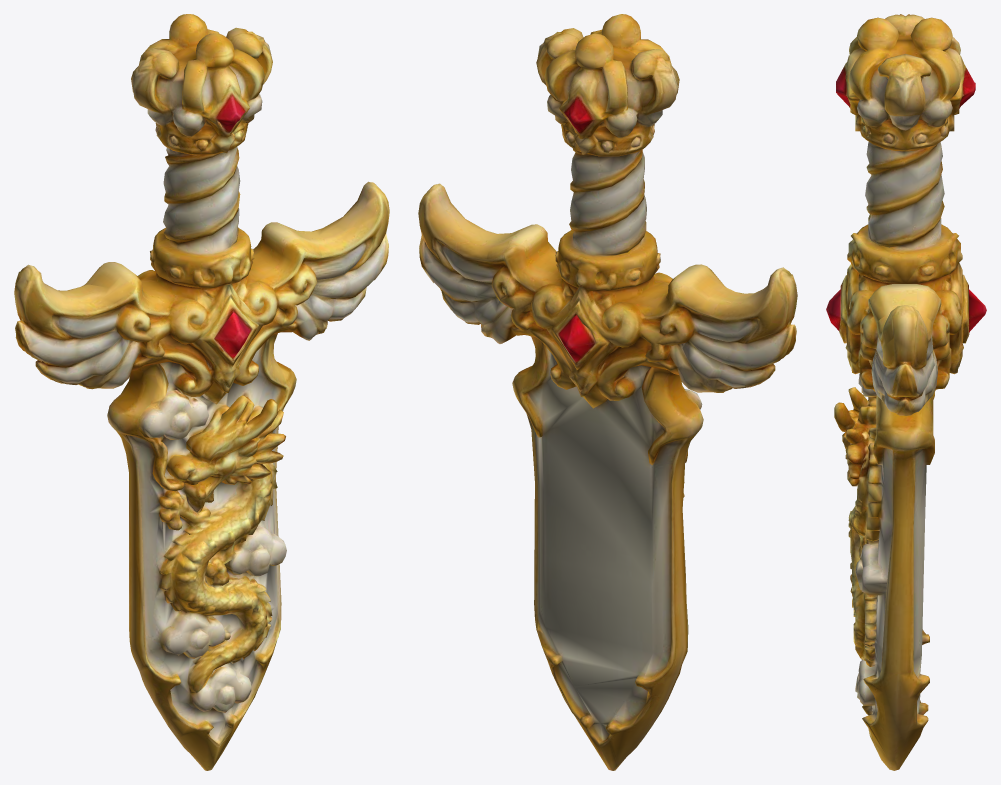
The model's file is pp_gsword3.glb.
3 views of the same model, side by side, from view 1: azimuth 30°, elevation 25°; view 2: azimuth 150°, elevation 25°; view 3: azimuth 270°, elevation 25° (orthographic).
Visible parts, largest first — view 1: tripo_node_304ea75a-681f-4aae-806a-da0a03a52b1b; view 2: tripo_node_304ea75a-681f-4aae-806a-da0a03a52b1b; view 3: tripo_node_304ea75a-681f-4aae-806a-da0a03a52b1b.
Boxes of the visible parts, x1,y1,x2,y2 form: tripo_node_304ea75a-681f-4aae-806a-da0a03a52b1b: (14,14,389,770); tripo_node_304ea75a-681f-4aae-806a-da0a03a52b1b: (418,14,797,770); tripo_node_304ea75a-681f-4aae-806a-da0a03a52b1b: (826,14,986,770).
Bounding box in the file's own units: 0.5083 × 0.9802 × 0.1899.
Materials: 1 (1 with a texture image).
